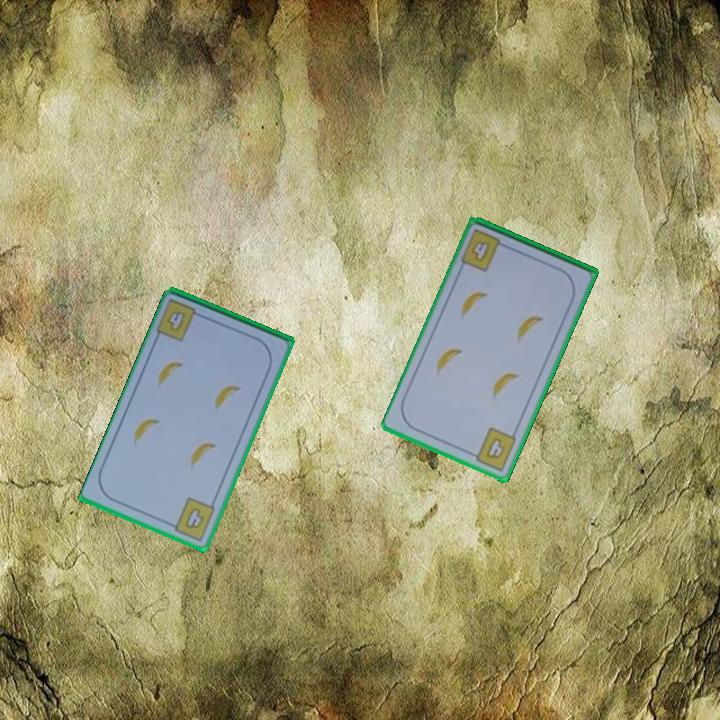4b: (466, 424, 519, 474), (165, 494, 218, 544), (457, 226, 511, 275), (163, 307, 189, 335)
